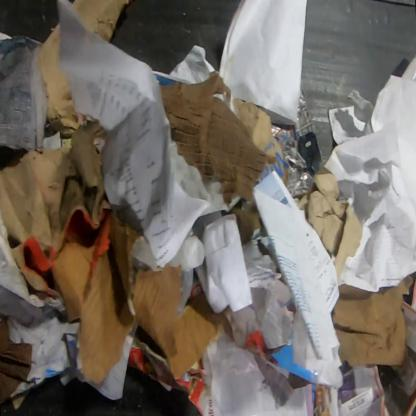cardboard: (0, 116, 146, 385), (157, 74, 278, 208), (131, 263, 234, 381), (332, 274, 414, 376), (35, 22, 84, 139), (0, 315, 33, 406), (71, 0, 132, 44)
rigid_plastic: (297, 132, 323, 176)
